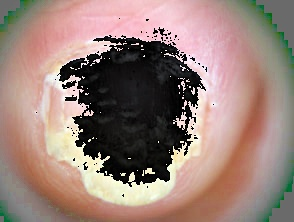Nail_psoriasis: (22, 0, 242, 222)
